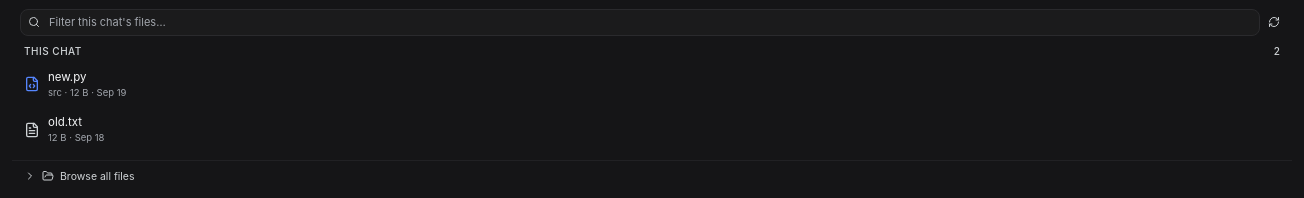
Test: FilesPanel › filters by name and reports when nothing matches
This screenshot has width=1304, height=198.
Expected: the button with test id "chat-file-old.txt" is shown, [24,115,104,143]
In the field labelled "Filter this chat's files": [640, 22] box [20,9,1260,36], type "old"
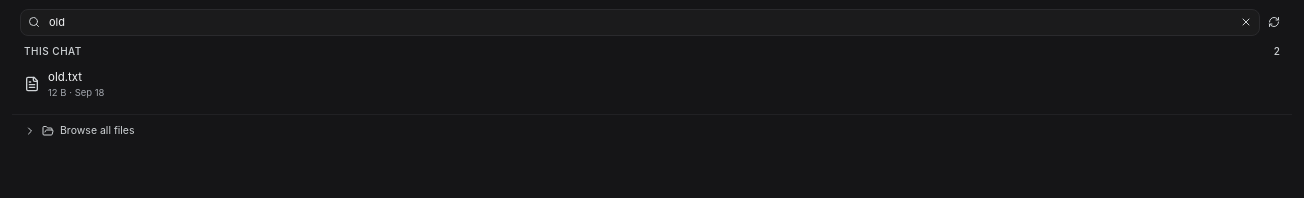
Replace the text in the field named "Filter this chat's files" with "zzz": [640, 22] box [20,9,1260,36]
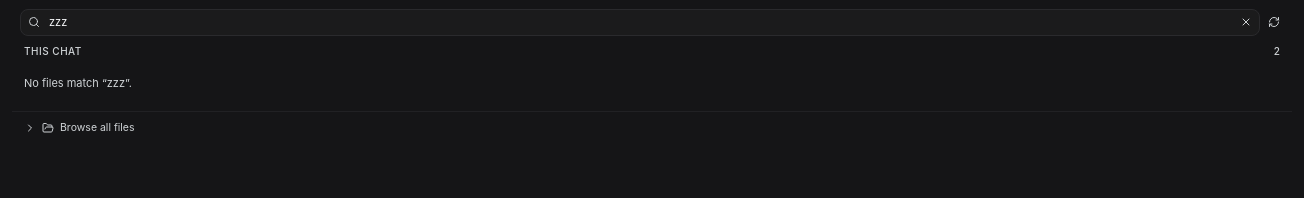
Expected: the text "No files match “zzz”." is shown, [24,76,132,90]
